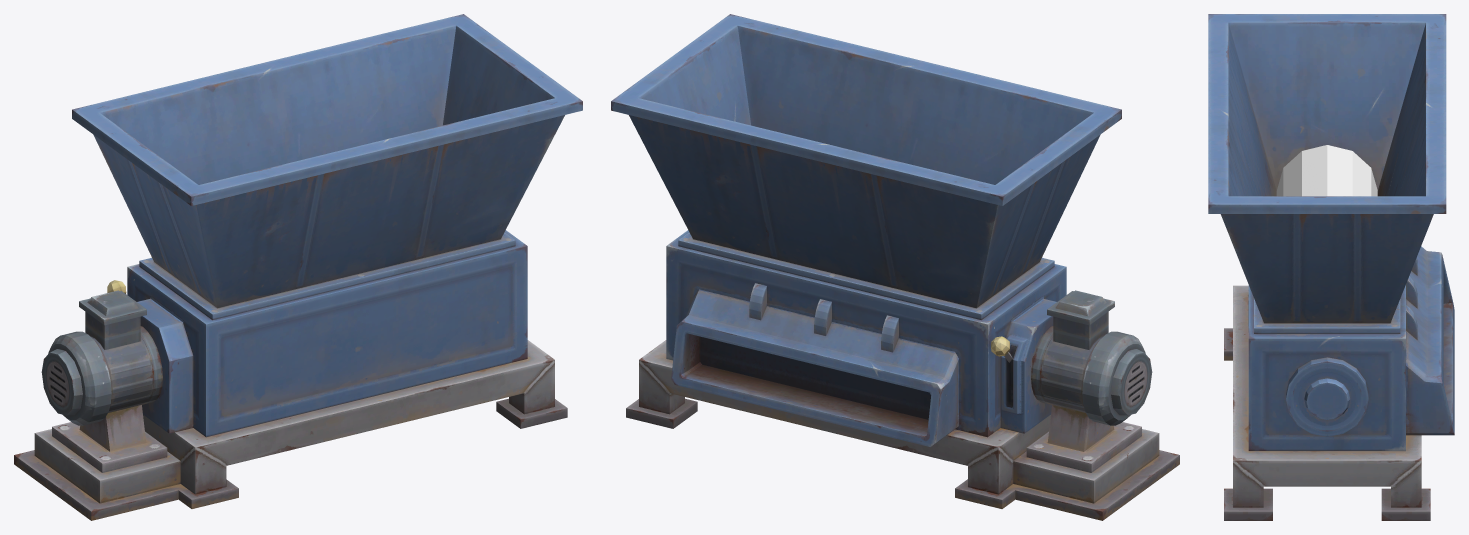
Rendered from P_Ingredient_00206.obj.
The picture shows the model from 3 angles, left to right: view 1: azimuth 30°, elevation 25°; view 2: azimuth 150°, elevation 25°; view 3: azimuth 270°, elevation 25°; orthographic projection.
Size of the model in its own units: 2.19 by 1.43 by 0.9966.
2 materials, 1 textured.
